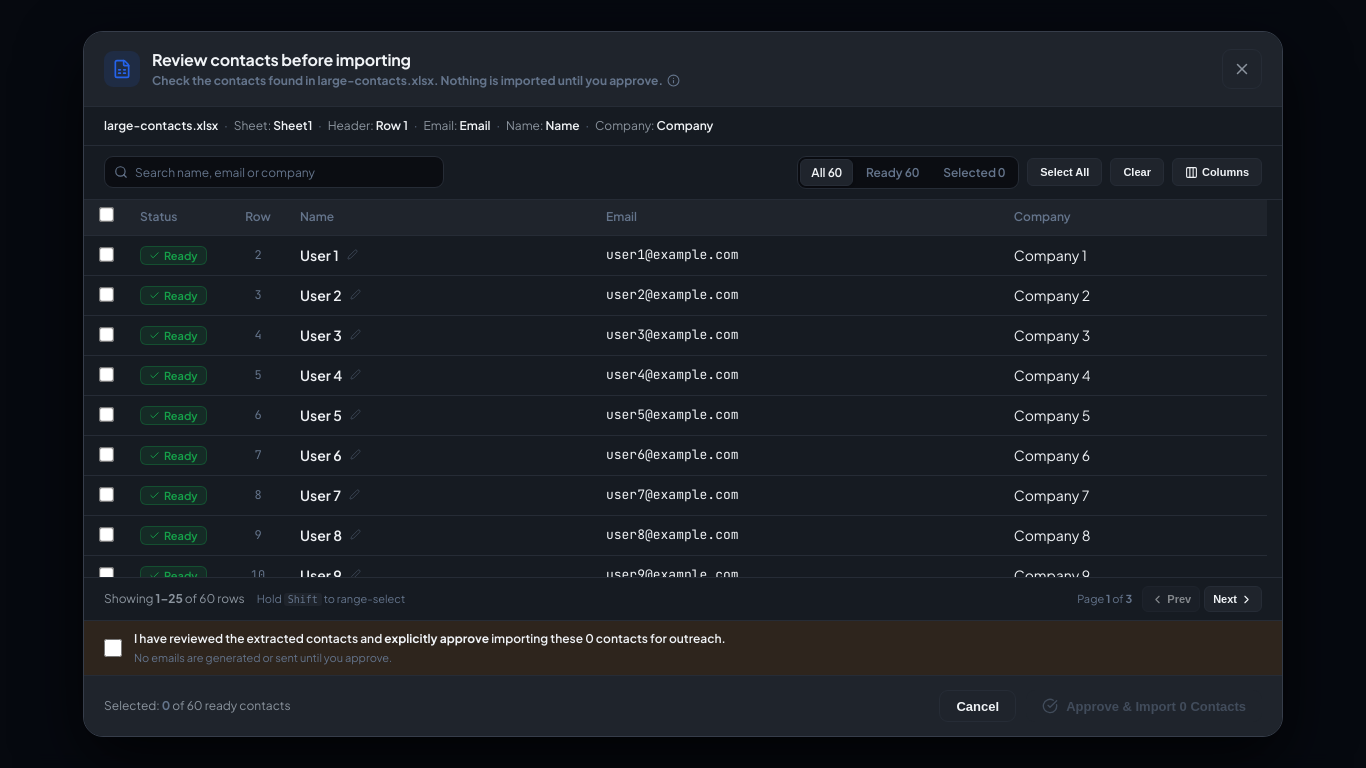
Test: RecipientModal Pagination & Search Filter › paginates contacts into 25 rows per page and navigates between pages
expect the text "user1@example.com" is shown: met, box [606,246,738,265]
expect the text "user26@example.com" is not shown: met
Navigate to Page 2
Click the button with aria-label "Next Page" at (1233, 599), box [1204,586,1262,612]
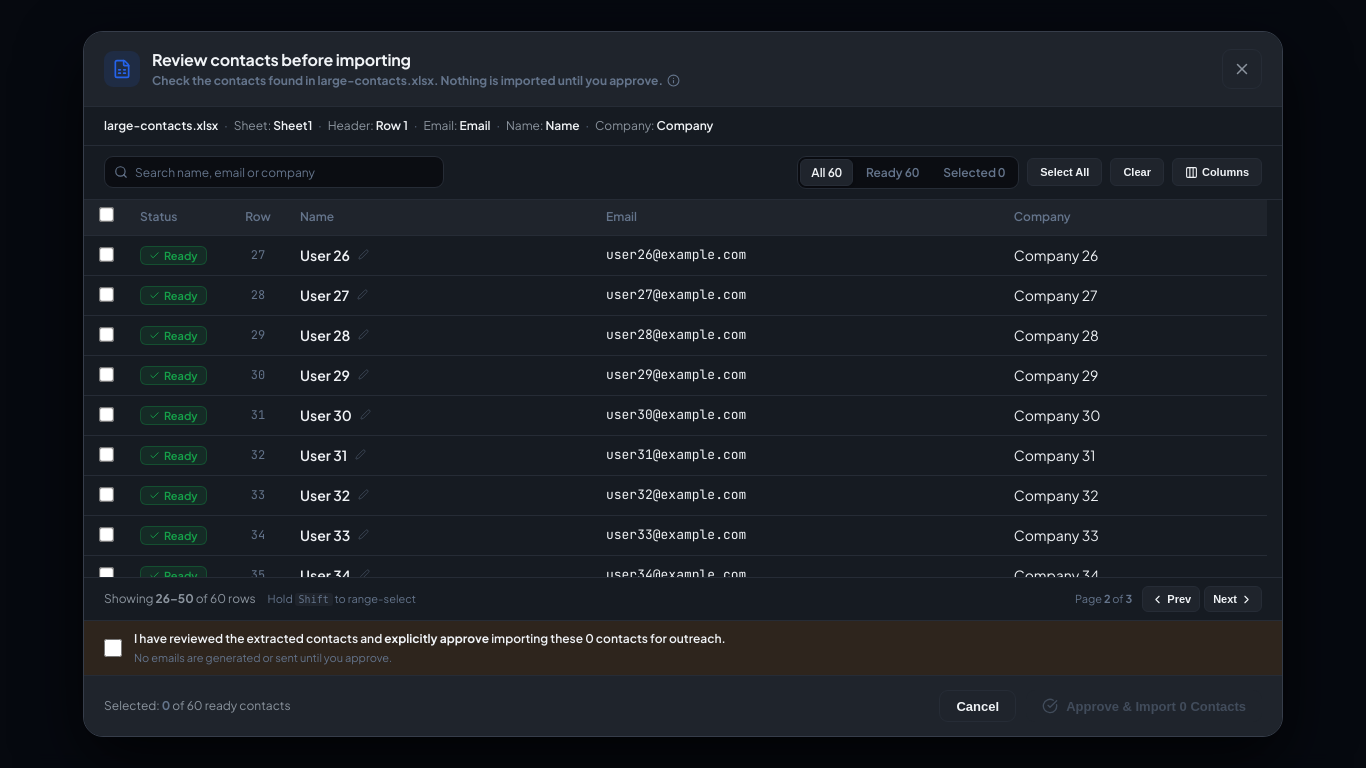
expect the text "user1@example.com" is gone: met
expect the text "user26@example.com" is shown: met, box [606,246,746,265]
expect the text "26–50" is shown: met, box [156,591,194,606]
Navigate to Page 3
Click the button with aria-label "Next Page" at (1233, 599), box [1204,586,1262,612]
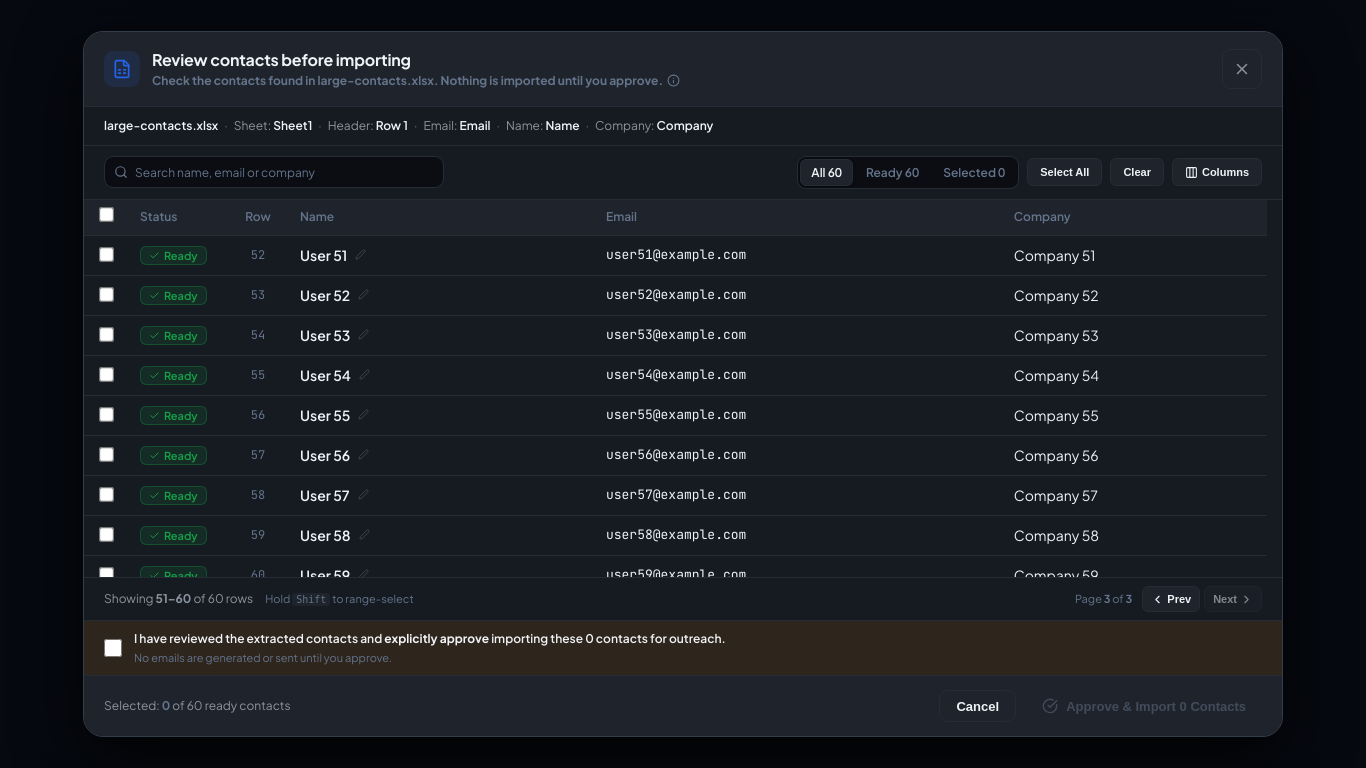
expect the text "user26@example.com" is gone: met
expect the text "user51@example.com" is shown: met, box [606,246,746,265]
expect the text "51–60" is shown: met, box [156,591,191,606]
Navigate back to Page 2
Click the button with aria-label "Previous Page" at (1171, 599), box [1142,586,1200,612]
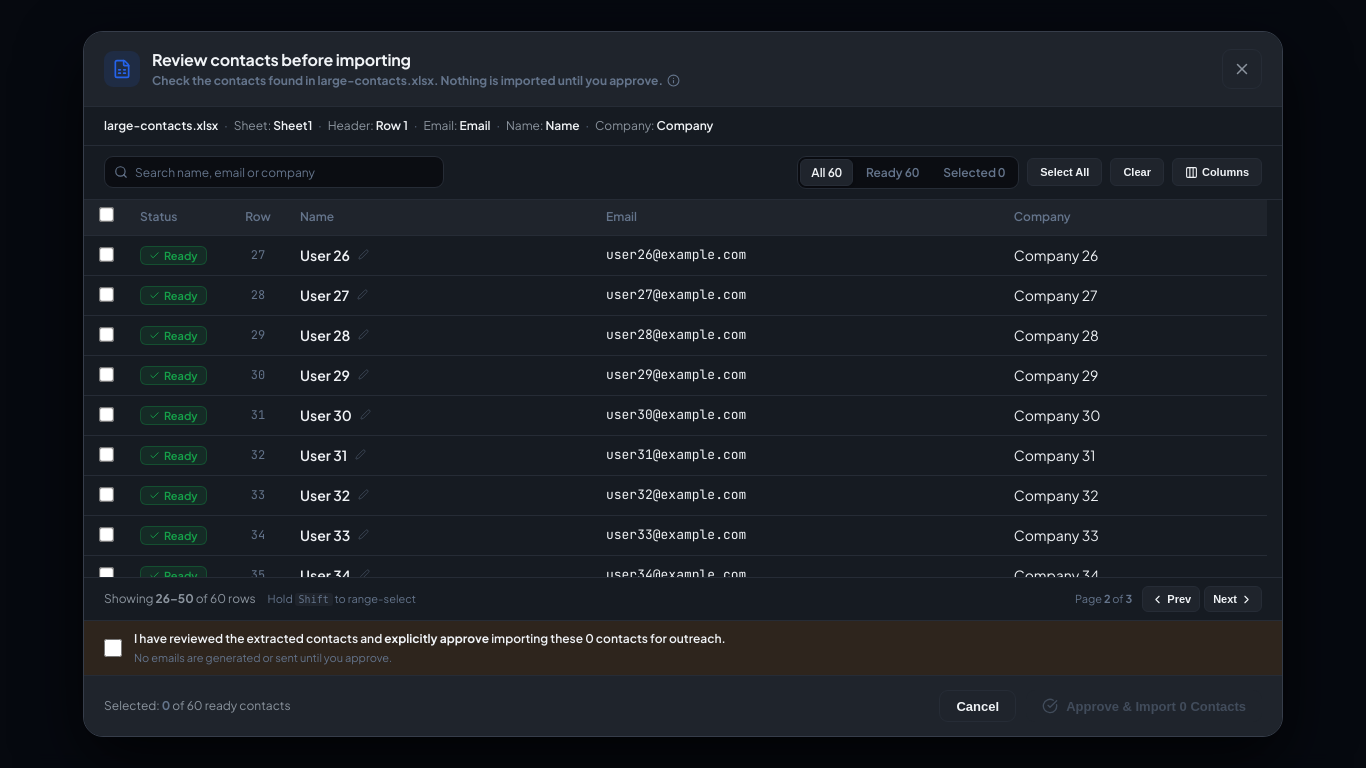
expect the text "user26@example.com" is shown: met, box [606,246,746,265]
expect the text "26–50" is shown: met, box [156,591,194,606]
